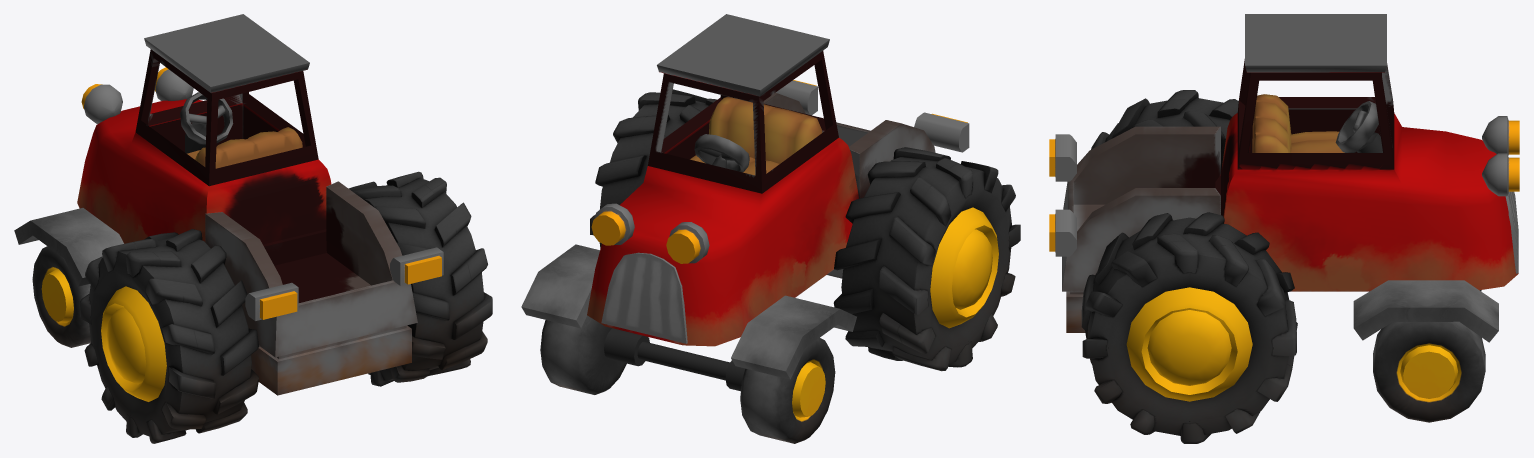
The model's file is tractor_game.glb.
3 views of the same model, side by side, from view 1: azimuth 30°, elevation 25°; view 2: azimuth 150°, elevation 25°; view 3: azimuth 270°, elevation 25° (orthographic). The views are drawn at different scales.
Parts seen in each view (by area): view 1: tractor; view 2: tractor; view 3: tractor.
Part boxes in pixels (x1=…): tractor: x1=14, y1=14, x2=492, y2=443; tractor: x1=521, y1=14, x2=1020, y2=443; tractor: x1=1049, y1=14, x2=1519, y2=443.
Size of the model in its own units: 1.03 by 0.8914 by 1.17.
1 material, 1 textured.
